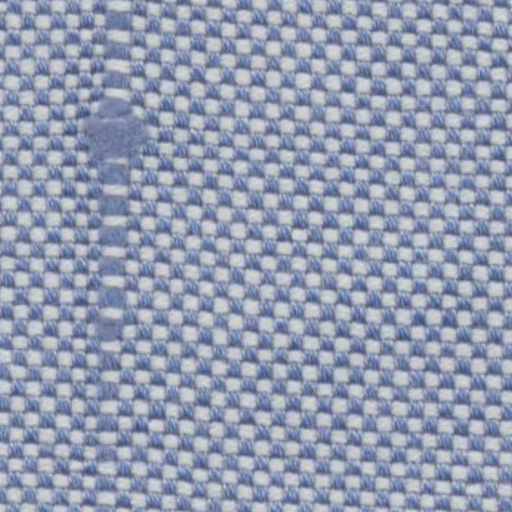DaiSha: (79, 6, 150, 470)
